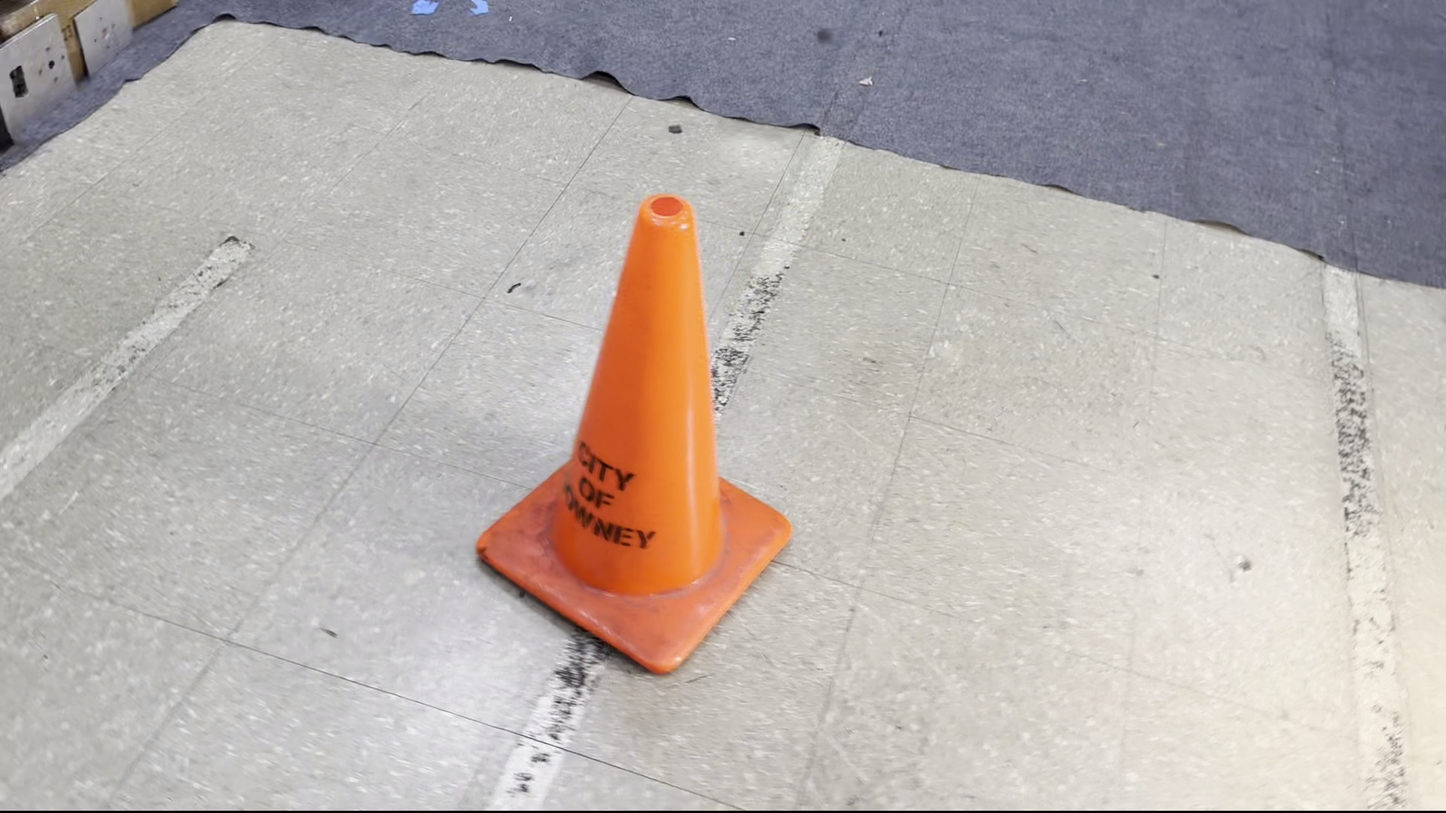traffic_cone: (475, 192, 793, 676)
